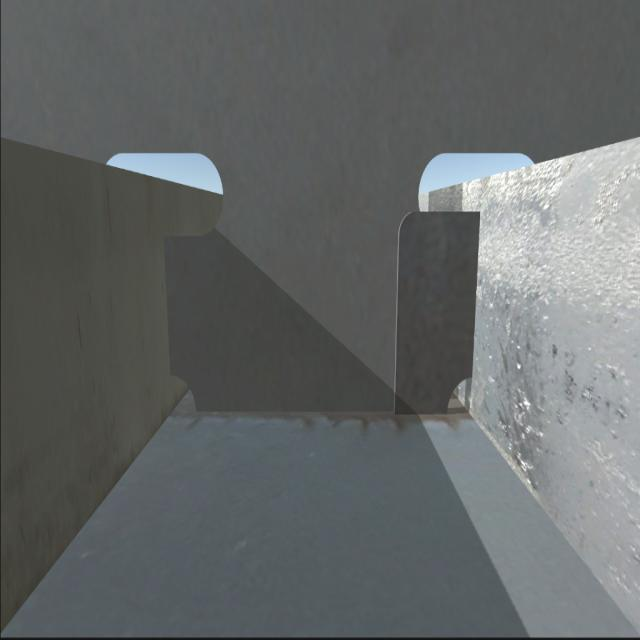fillet_hole: (441, 376, 479, 422), (170, 377, 198, 408)
fillet_yong_jeop_jang: (196, 407, 445, 422)
longi_yong_jeop_jang: (465, 211, 479, 375), (160, 241, 177, 374)
plate_CP05: (400, 213, 480, 403)
